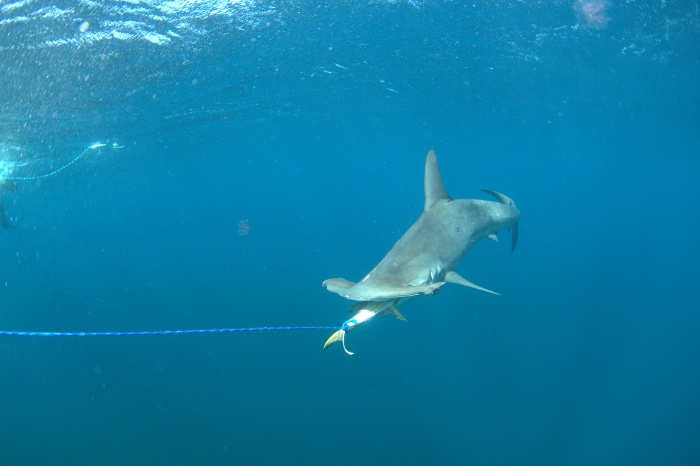Hammer: (283, 137, 558, 330), (223, 206, 519, 353)
